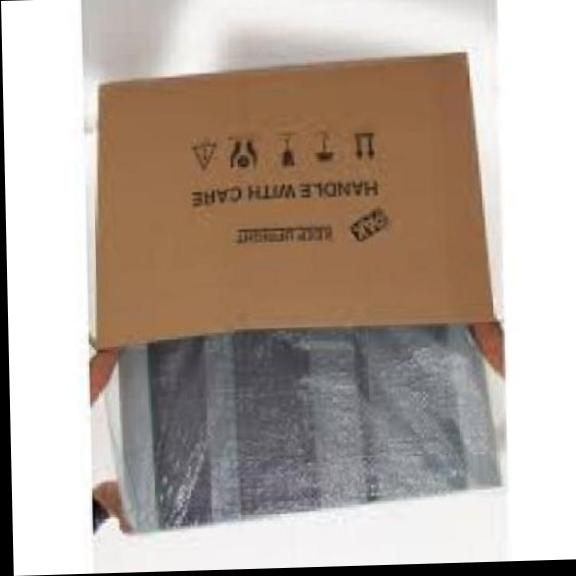Kertas: (97, 55, 491, 346)
